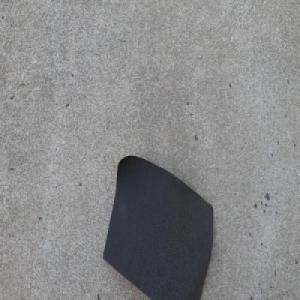PaintChip: (102, 152, 214, 300)
